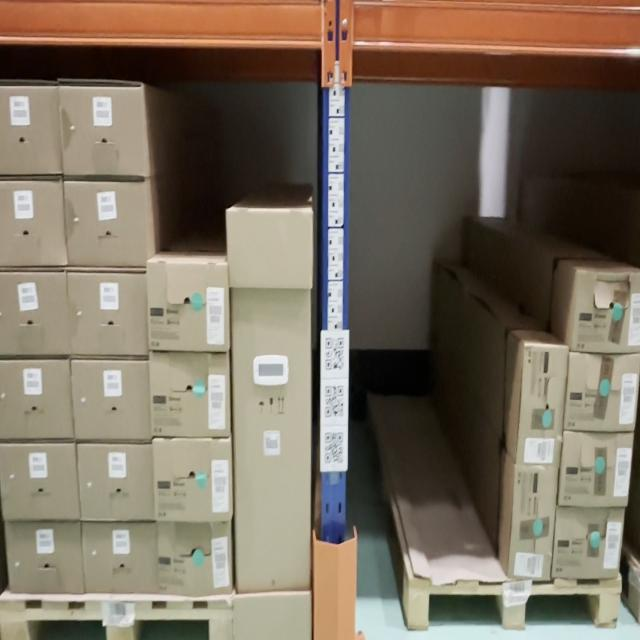box: (228, 209, 312, 591), (61, 87, 145, 173), (148, 262, 228, 348), (68, 184, 145, 266), (0, 356, 74, 440), (0, 444, 80, 521), (517, 345, 567, 468), (154, 354, 229, 436), (68, 275, 147, 352), (564, 351, 640, 430), (0, 271, 70, 356), (4, 519, 84, 593), (559, 430, 634, 507), (571, 270, 640, 353), (0, 182, 67, 267), (508, 469, 558, 580), (154, 444, 231, 516), (76, 362, 148, 438), (78, 446, 154, 518), (0, 86, 61, 175), (552, 506, 625, 578), (84, 524, 159, 591), (161, 523, 230, 592)
